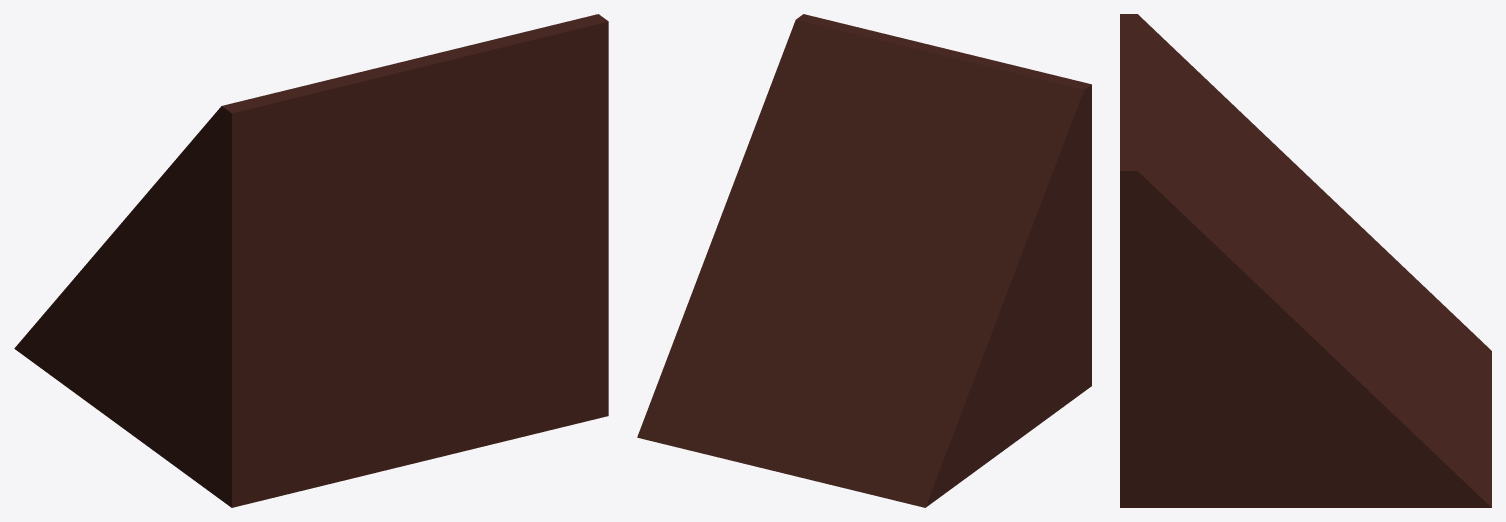
File: Biom_Eis_SchiefeEbene.fbx
The picture shows the model from 3 angles, left to right: view 1: azimuth 30°, elevation 25°; view 2: azimuth 150°, elevation 25°; view 3: azimuth 270°, elevation 25°; orthographic projection. The views are drawn at different scales.
Visible parts, largest first — view 1: Schiefe Ebene.003; view 2: Schiefe Ebene.003; view 3: Schiefe Ebene.003.
Part boxes in pixels (box(x1,y1,x2,y2)): Schiefe Ebene.003: box(14, 14, 608, 507); Schiefe Ebene.003: box(637, 14, 1091, 507); Schiefe Ebene.003: box(1120, 14, 1491, 507).
Size of the model in its own units: 100 by 100 by 100.
